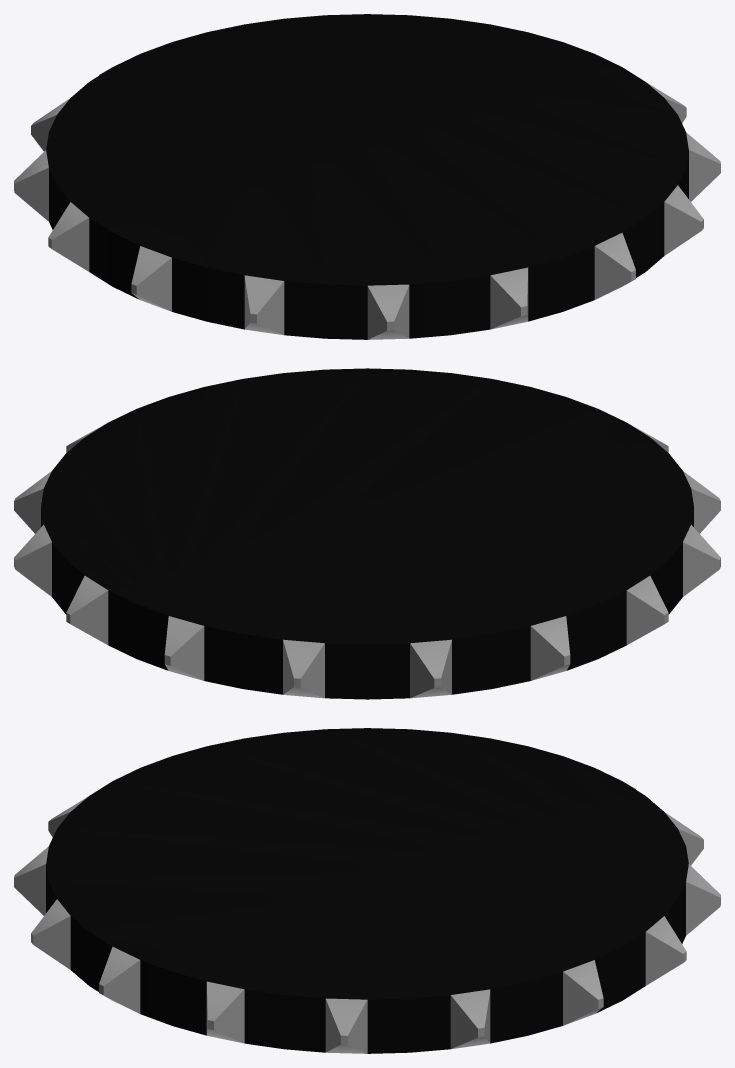
The model's file is SpikyCollar_1.fbx.
The picture shows the model from 3 angles, top to bottom: view 1: azimuth 30°, elevation 25°; view 2: azimuth 150°, elevation 25°; view 3: azimuth 270°, elevation 25°; orthographic projection.
Visible parts, largest first — view 1: SpikyCollar_1; view 2: SpikyCollar_1; view 3: SpikyCollar_1.
Boxes of the visible parts, x1,y1,x2,y2 form: SpikyCollar_1: (14,14,720,339); SpikyCollar_1: (14,368,720,699); SpikyCollar_1: (14,728,720,1053).
Bounding box in the file's own units: 71.07 × 6.02 × 71.07.
1 material, 1 textured.
